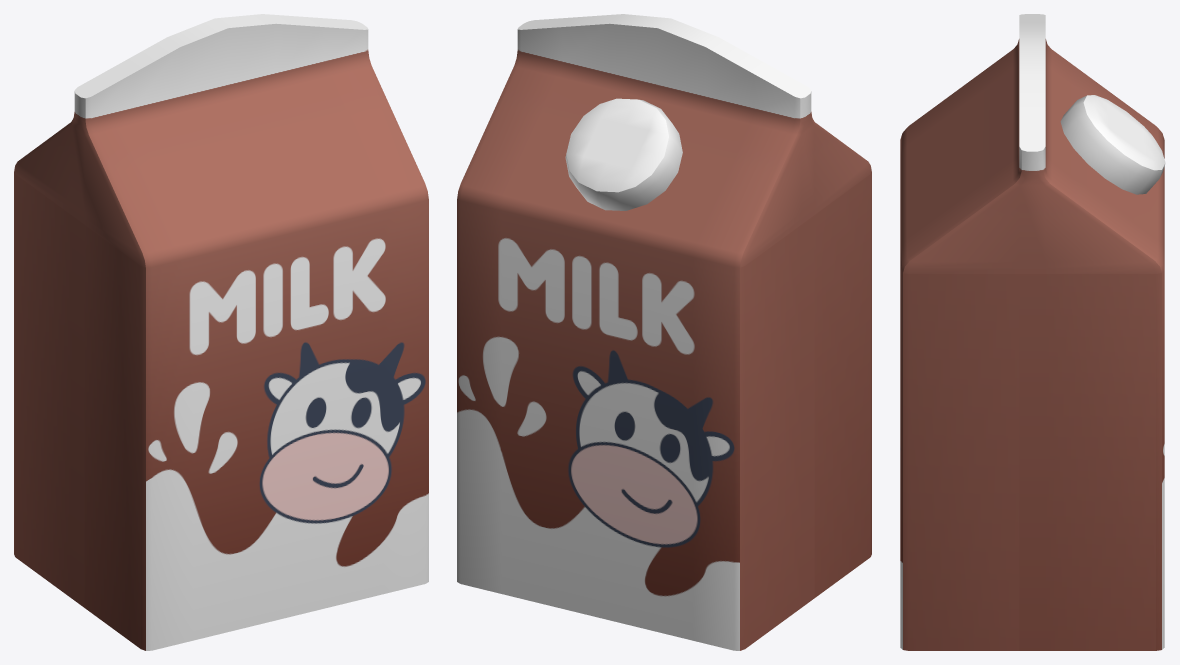
File: Chocolate Milk.fbx
3 renders of one model, left to right at view 1: azimuth 30°, elevation 25°; view 2: azimuth 150°, elevation 25°; view 3: azimuth 270°, elevation 25°, orthographic.
Parts seen in each view (by area): view 1: Chocolate Milk; view 2: Chocolate Milk; view 3: Chocolate Milk.
Boxes of the visible parts, bbox=[...] form: Chocolate Milk: bbox=[14, 14, 428, 650]; Chocolate Milk: bbox=[457, 14, 871, 650]; Chocolate Milk: bbox=[900, 14, 1165, 650].
Size of the model in its own units: 9.4 by 17.07 by 7.65.
